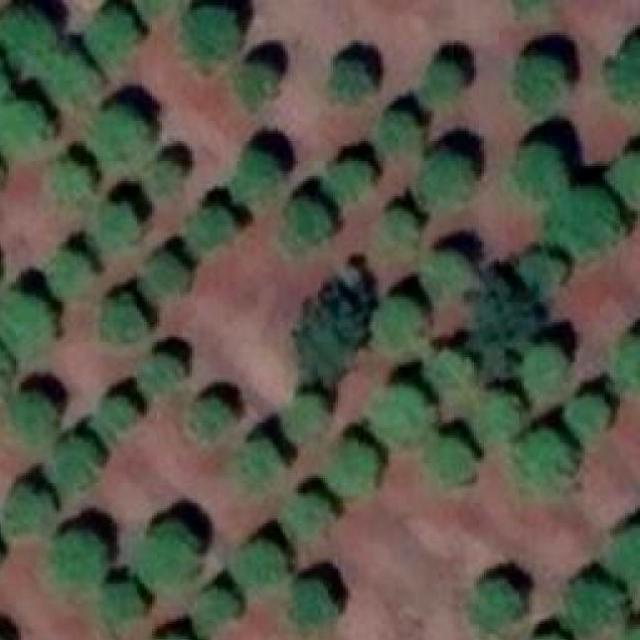Tree: (298, 260, 376, 390), (476, 270, 531, 363), (551, 186, 627, 252), (516, 426, 580, 491), (511, 141, 572, 201), (46, 533, 105, 592), (0, 2, 57, 63), (375, 385, 431, 446), (139, 526, 192, 590), (187, 8, 236, 74), (85, 7, 139, 65), (51, 433, 102, 493), (0, 296, 54, 350), (419, 149, 474, 202), (368, 206, 419, 262), (96, 106, 149, 159), (0, 480, 54, 531), (566, 582, 627, 627), (375, 297, 424, 352), (232, 541, 288, 587), (424, 251, 482, 295), (285, 199, 335, 250), (330, 441, 378, 494), (471, 579, 524, 627), (288, 579, 333, 632), (516, 345, 570, 389), (514, 58, 563, 104), (11, 394, 56, 443), (48, 50, 94, 96), (431, 435, 474, 483), (608, 39, 640, 103), (93, 201, 137, 247), (192, 394, 233, 443), (97, 582, 147, 622), (426, 347, 474, 388), (608, 528, 640, 589), (380, 109, 424, 152), (146, 251, 189, 295), (192, 586, 241, 624), (605, 154, 640, 207), (283, 395, 323, 441), (285, 495, 333, 533), (0, 103, 44, 144), (99, 400, 142, 441), (189, 206, 230, 247), (46, 251, 87, 292), (51, 159, 92, 199), (239, 441, 280, 481), (240, 148, 274, 196), (564, 398, 613, 430), (333, 60, 371, 101), (479, 395, 517, 436), (327, 161, 370, 196), (104, 300, 147, 335), (240, 63, 272, 109), (610, 339, 640, 388), (144, 356, 182, 390), (519, 256, 565, 284), (142, 159, 177, 192), (426, 64, 461, 96)
